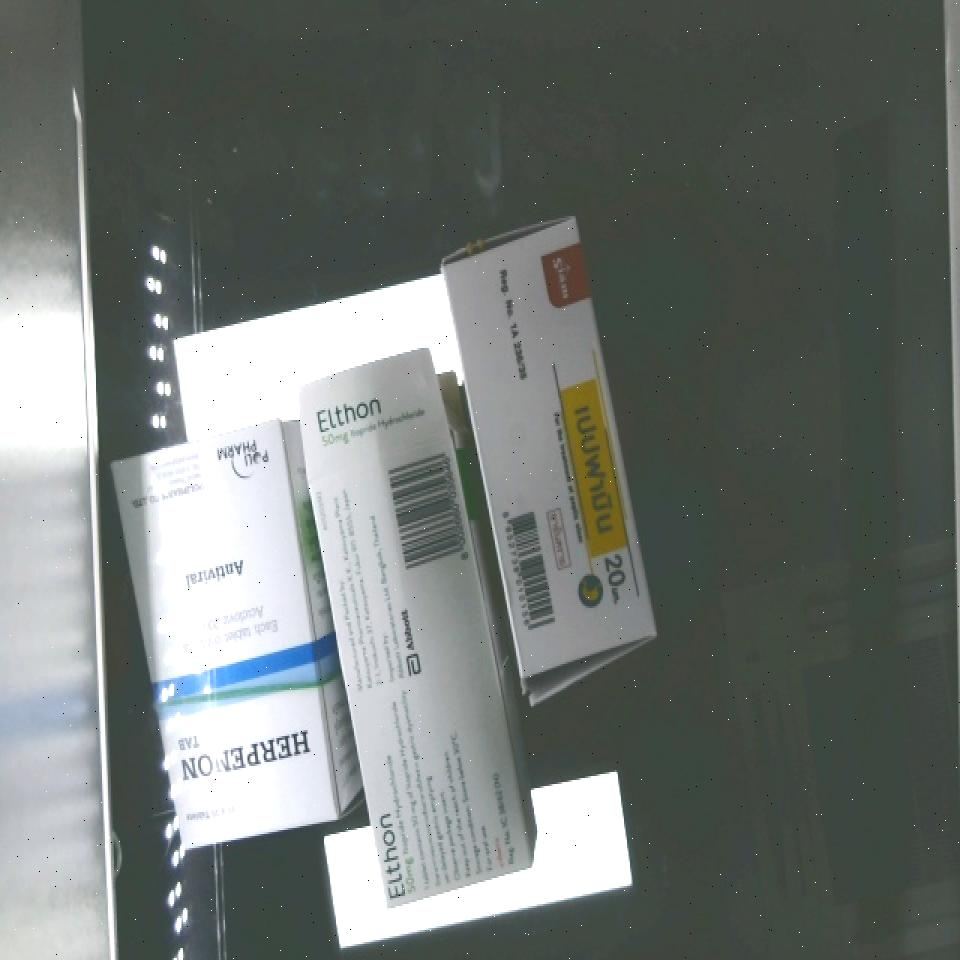medicine_box: (278, 349, 537, 918), (436, 216, 668, 687), (110, 420, 344, 853)
medicine_label_obb: (554, 367, 644, 626), (159, 708, 333, 804), (362, 790, 421, 907)
